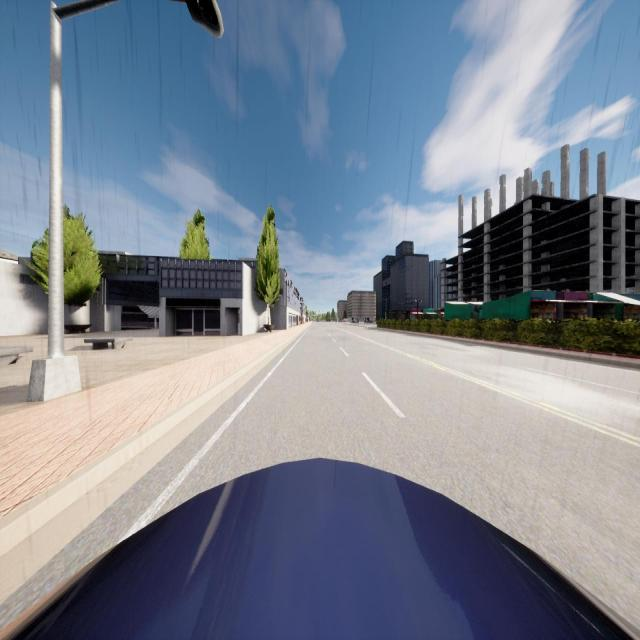Vehicle: (0, 458, 638, 640), (350, 319, 359, 323), (364, 319, 372, 323)
